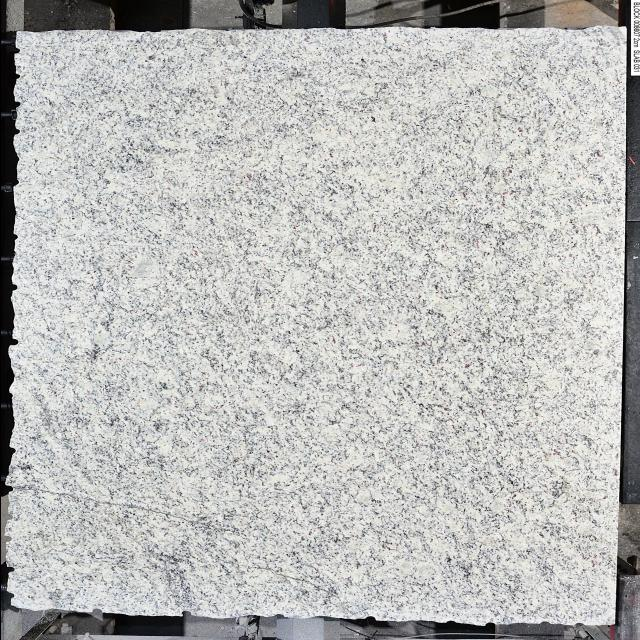chapa: (6, 28, 624, 624)
veio: (3, 483, 15, 495), (177, 610, 194, 618), (88, 608, 105, 616), (1, 534, 14, 544), (8, 337, 20, 347)
